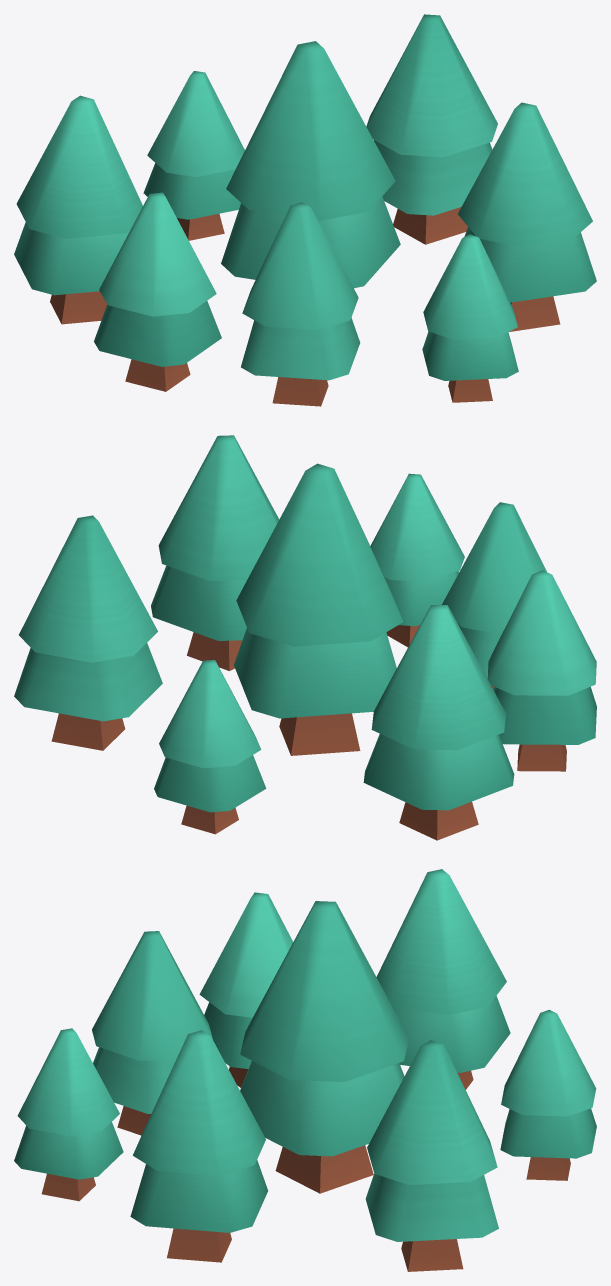
File: forest.fbx
3 renders of one model, top to bottom at view 1: azimuth 30°, elevation 25°; view 2: azimuth 150°, elevation 25°; view 3: azimuth 270°, elevation 25°, orthographic. The views are drawn at different scales.
Visible parts, largest first — view 1: grass_forest; view 2: grass_forest; view 3: grass_forest.
Boxes of the visible parts, x1=… form: grass_forest: x1=14, y1=14, x2=596, y2=406; grass_forest: x1=14, y1=435, x2=596, y2=840; grass_forest: x1=14, y1=869, x2=596, y2=1271.
Bounding box in the file's own units: 88.93 × 47.5 × 93.91.
